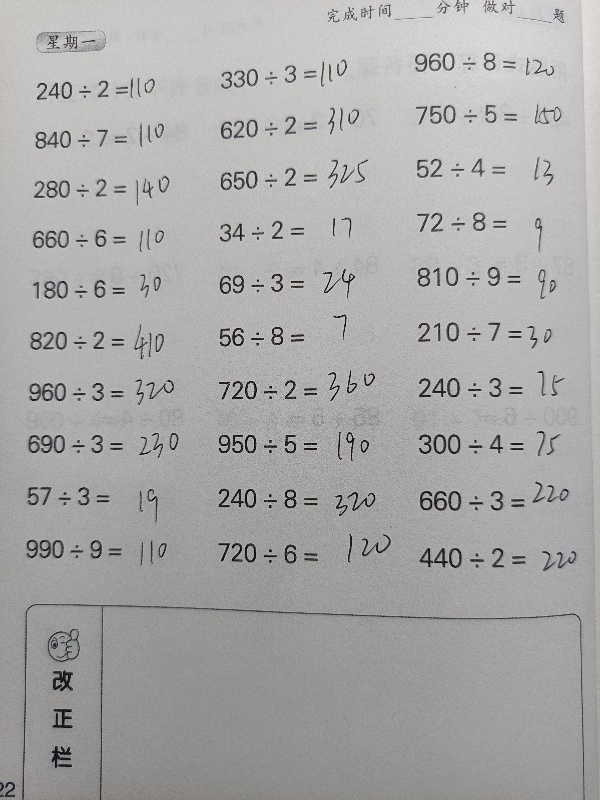equation: (21, 313, 201, 363), (19, 479, 202, 528), (211, 366, 391, 411), (211, 152, 391, 196), (408, 258, 581, 303), (25, 170, 205, 213), (410, 477, 590, 519), (211, 101, 391, 143), (210, 311, 388, 353), (21, 372, 201, 413), (212, 57, 392, 98), (409, 313, 589, 353), (26, 119, 206, 157), (405, 44, 585, 81), (411, 540, 591, 576), (209, 535, 389, 571), (410, 426, 590, 462), (27, 70, 207, 106), (18, 532, 198, 567), (210, 481, 390, 516), (411, 369, 591, 404), (210, 266, 390, 301), (409, 205, 589, 240), (407, 149, 587, 184), (408, 97, 588, 132), (210, 427, 390, 461), (20, 427, 200, 461), (25, 272, 205, 306), (211, 213, 391, 247), (23, 222, 203, 255)
